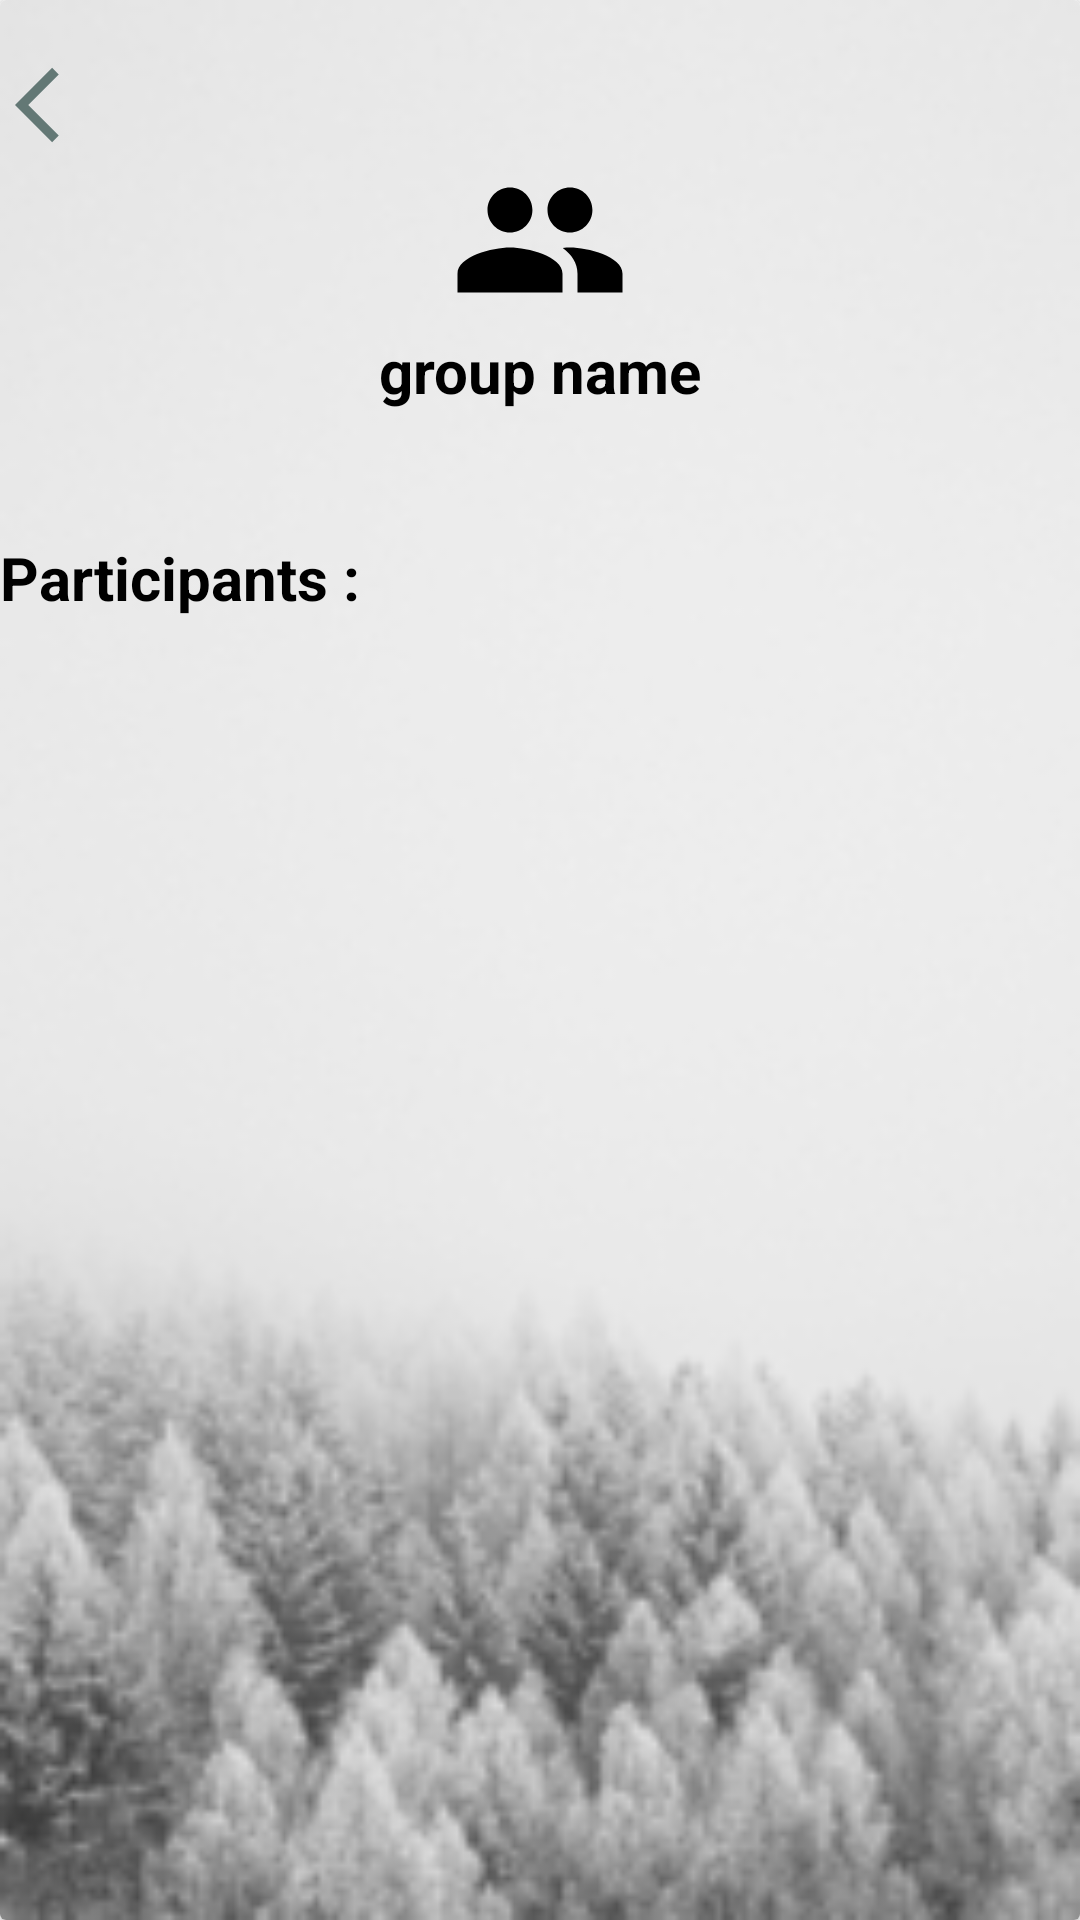

Where icons sit on this 1080 x 1920 app screen, as (x1, y1, x2, y2):
back: (15, 68, 59, 142)
